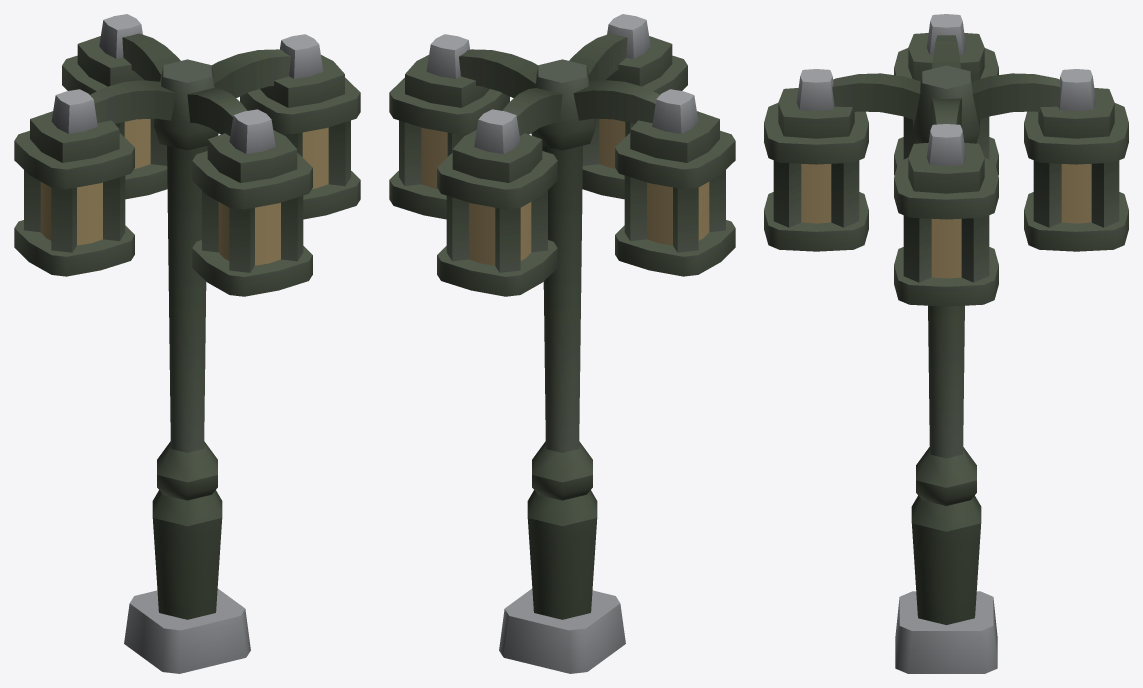
The model's file is lightpost-all.glb.
3 views of the same model, side by side, from view 1: azimuth 30°, elevation 25°; view 2: azimuth 150°, elevation 25°; view 3: azimuth 270°, elevation 25° (orthographic).
Visible parts, largest first — view 1: lightpost-all; view 2: lightpost-all; view 3: lightpost-all.
Boxes of the visible parts, x1=… form: lightpost-all: x1=14, y1=14, x2=360, y2=673; lightpost-all: x1=389, y1=14, x2=735, y2=673; lightpost-all: x1=764, y1=14, x2=1128, y2=673.
Size of the model in its own units: 1.74 by 3.04 by 1.74.
Materials: 1 (1 with a texture image).
